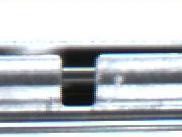oneu: (48, 48, 104, 109)
